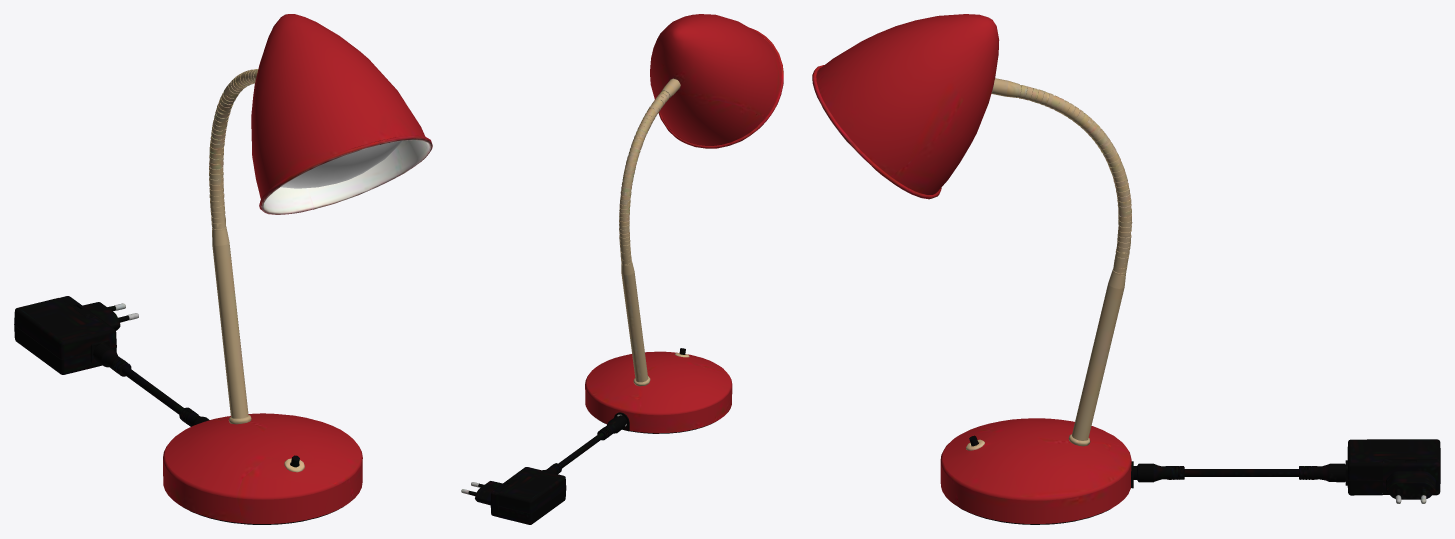
The model's file is 10 - ISNÅLEN LED work lamp - redbrass-colour.glb.
3 renders of one model, left to right at view 1: azimuth 30°, elevation 25°; view 2: azimuth 150°, elevation 25°; view 3: azimuth 270°, elevation 25°, orthographic. The views are drawn at different scales.
Visible parts, largest first — view 1: 80520011; view 2: 80520011; view 3: 80520011.
Boxes of the visible parts, box(x1,y1,x2,y2) form: 80520011: box(14, 14, 432, 524); 80520011: box(461, 14, 783, 524); 80520011: box(812, 14, 1440, 524).
Bounding box in the file's own units: 0.1354 × 0.3684 × 0.4448.
Materials: 1 (1 with a texture image).
